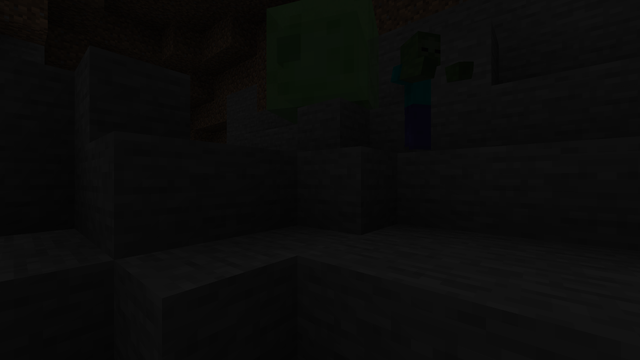slimes: (262, 0, 393, 123)
zombies: (397, 29, 442, 133)
